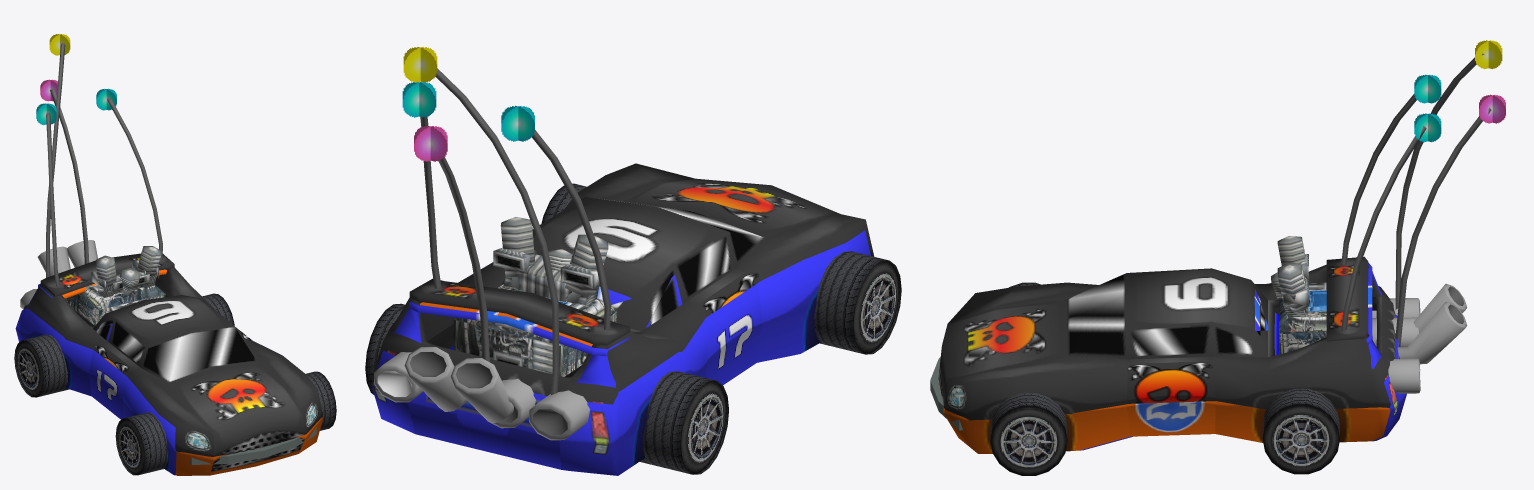
Rendered from car.fbx.
3 views of the same model, side by side, from view 1: azimuth 30°, elevation 25°; view 2: azimuth 150°, elevation 25°; view 3: azimuth 270°, elevation 25° (orthographic). The views are drawn at different scales.
Parts seen in each view (by area): view 1: Bonnet3, Bonnet2, Engine2_1, Wheel2:tyre.001, Xtra2, Bonnet1, Wheel2:tyre, Xtra1, Engine3_1, Xtra3, Wheel2_1.001, Wheel2_1 (+3 smaller); view 2: Bonnet3, Bonnet2, Engine2_1, Wheel2:tyre, Seat3, Wheel2:tyre.001, Xtra2, Xtra1, Wheel2_1.001, Wheel2_1, Xtra3, Seat1 (+4 smaller); view 3: Bonnet3, Bonnet1, Wheel2_1, Wheel2_1.001, Xtra2, Engine2_1, Seat3, Xtra3, Xtra1, Bonnet2, Seat2, Wheel2:tyre (+3 smaller).
Boxes of the visible parts, x1,y1,x2,y2 form: Bonnet3: (23, 253, 322, 456); Bonnet2: (15, 283, 176, 475); Engine2_1: (66, 246, 165, 325); Wheel2:tyre.001: (115, 371, 336, 475); Xtra2: (36, 88, 162, 286); Bonnet1: (62, 269, 322, 475); Wheel2:tyre: (14, 293, 234, 397); Xtra1: (46, 34, 70, 277); Engine3_1: (74, 260, 165, 325); Xtra3: (40, 79, 89, 263); Wheel2_1.001: (117, 418, 144, 474); Wheel2_1: (16, 340, 43, 396); Bonnet3: (373, 163, 874, 404); Bonnet2: (372, 230, 870, 475); Engine2_1: (453, 217, 617, 376); Wheel2:tyre: (365, 303, 728, 474); Seat3: (404, 347, 513, 423); Wheel2:tyre.001: (541, 183, 901, 354); Xtra2: (402, 82, 611, 329); Xtra1: (403, 47, 559, 394); Wheel2_1.001: (853, 260, 899, 353); Wheel2_1: (681, 381, 726, 473); Xtra3: (414, 126, 489, 362); Seat1: (487, 379, 589, 440); Bonnet3: (938, 256, 1395, 420); Bonnet1: (943, 401, 1390, 453); Wheel2_1: (1262, 404, 1339, 473); Wheel2_1.001: (990, 406, 1067, 475); Xtra2: (1341, 74, 1441, 331); Engine2_1: (1277, 236, 1326, 353); Seat3: (1397, 283, 1466, 364); Xtra3: (1395, 94, 1505, 346); Xtra1: (1395, 40, 1502, 309); Bonnet2: (1080, 262, 1406, 450); Seat2: (1372, 298, 1420, 393); Wheel2:tyre: (1262, 388, 1339, 474).
Bounding box in the file's own units: 0.4457 × 0.6435 × 0.8769.
Materials: 20 (14 with a texture image).
